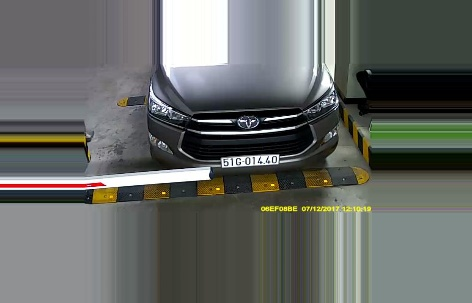plate: (218, 151, 281, 165)
